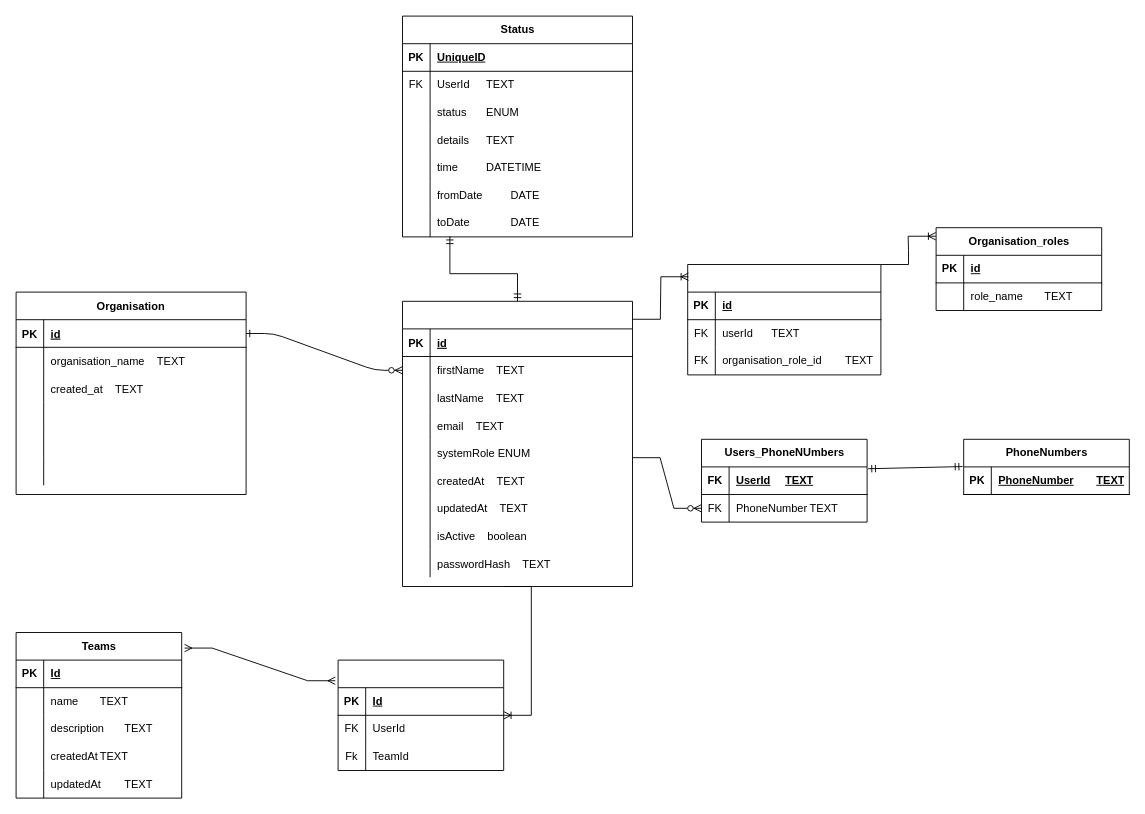
Some shapes in this 1145 by 814 pixel diagram are drawn without their labels. Here are the shapes that lost their labels. From the top down, the box of each, then its label:
(687, 264, 881, 375): Users_Organisation_roles
(402, 300, 632, 586): User
(337, 659, 504, 770): Users_Teams
